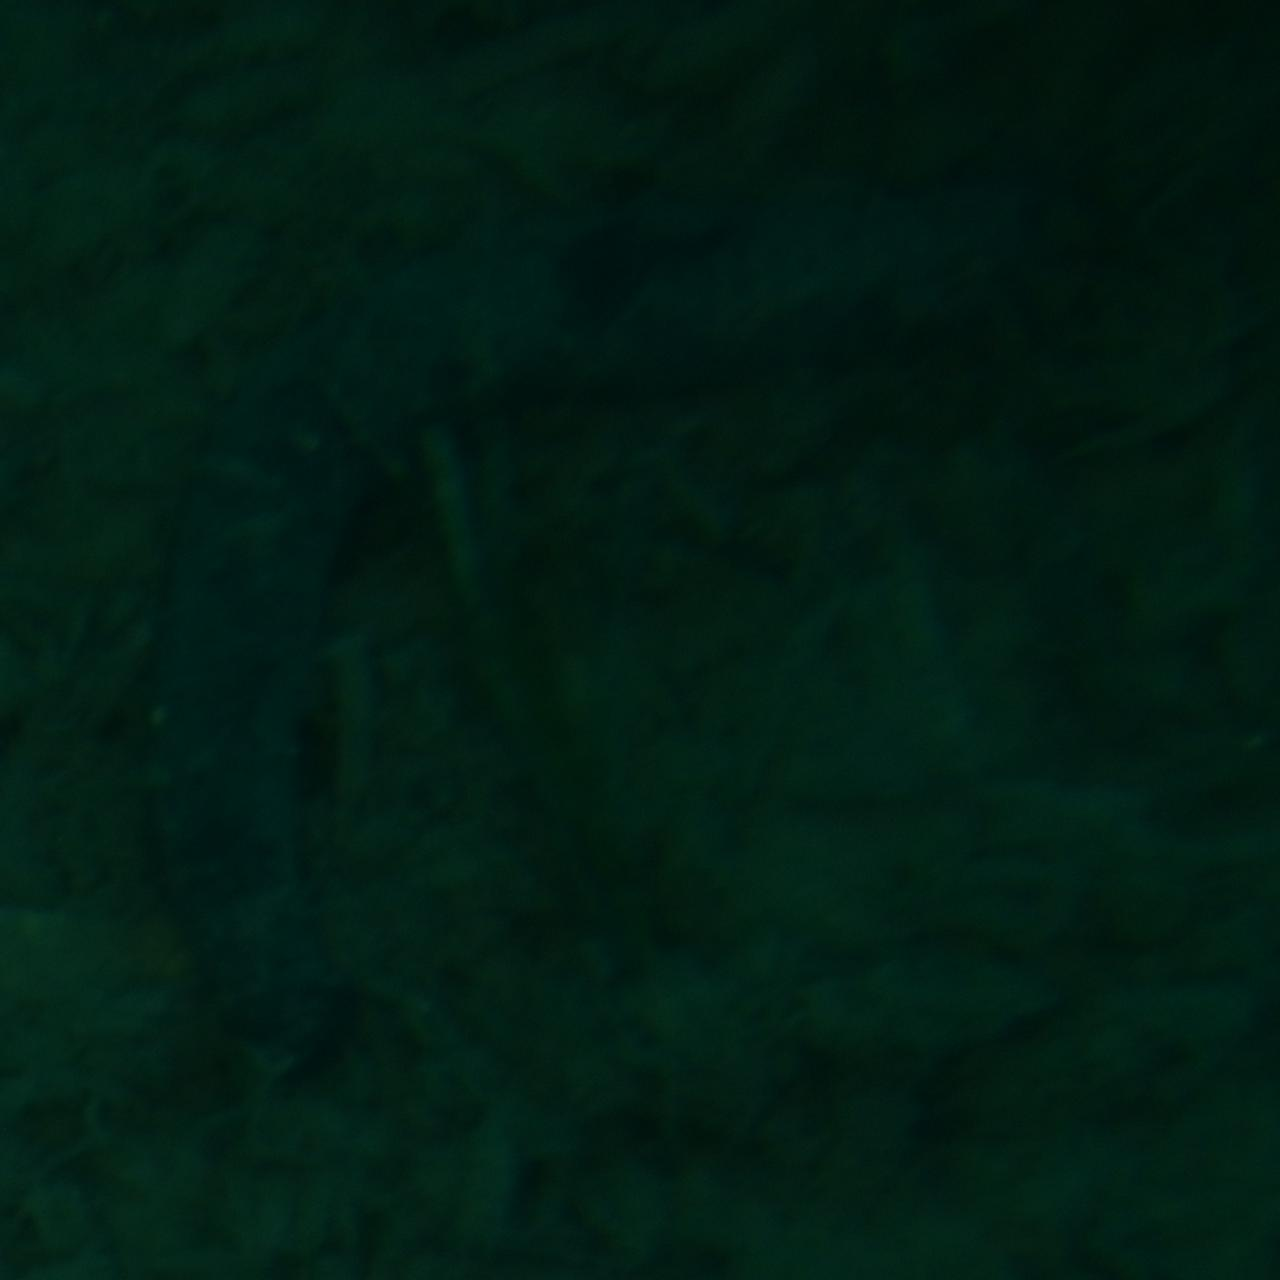Holothuria tubulosa: (168, 156, 1112, 1100)
